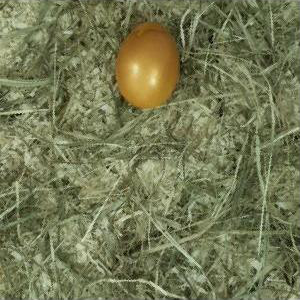egg: (114, 21, 181, 109)
